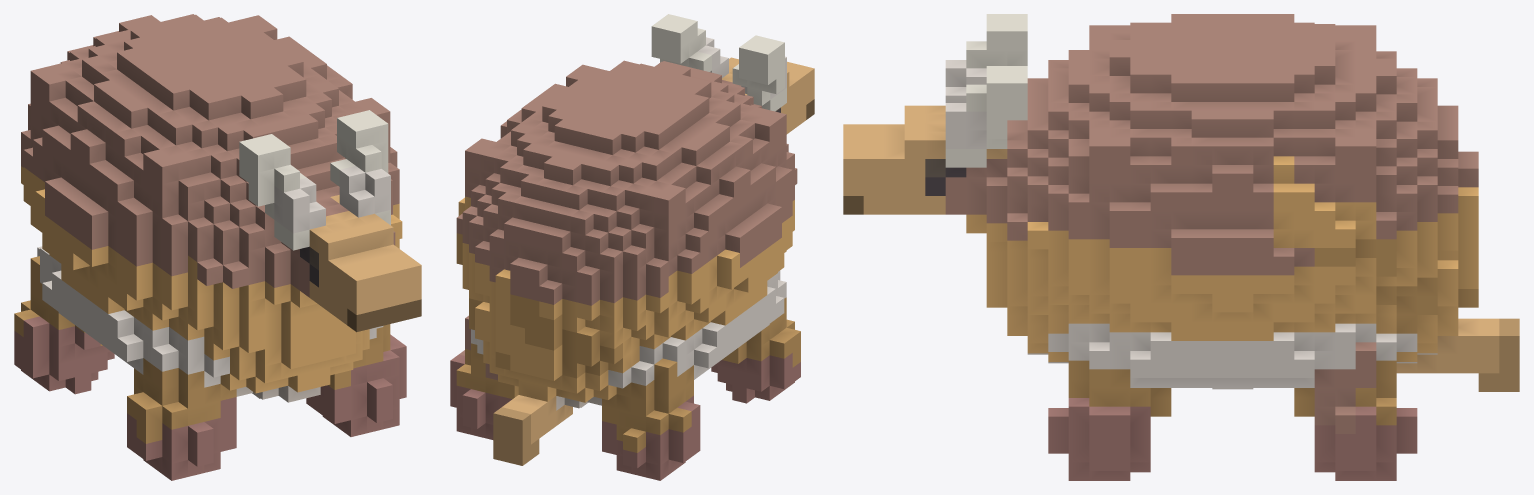
The model's file is tortoise-42-champion.glb.
3 views of the same model, side by side, from view 1: azimuth 30°, elevation 25°; view 2: azimuth 150°, elevation 25°; view 3: azimuth 270°, elevation 25° (orthographic). The views are drawn at different scales.
Visible parts, largest first — view 1: shell, body, head, legFL, plastron, legBL, legFR, crownStoneLeft, crownStoneRight, skullBudRight, skullBudLeft, neck (+1 smaller); view 2: shell, body, legBL, plastron, legFL, legBR, crownStoneLeft, crownStoneRight, tailTip, head, tail, skullBudRight; view 3: shell, plastron, body, legBR, legFR, head, crownStoneRight, tail, crownStoneLeft, neck, tailTip, skullBudRight (+2 smaller).
Part boxes in pixels (box(x1,y1,x2,y2)): shell: box(21, 14, 402, 340); body: box(169, 298, 369, 402); head: box(309, 195, 421, 332); legFL: box(127, 358, 236, 480); plastron: box(37, 246, 383, 387); legBL: box(14, 256, 114, 394); legFR: box(306, 324, 406, 436); crownStoneLeft: box(239, 134, 309, 250); crownStoneRight: box(330, 110, 390, 225); skullBudRight: box(339, 166, 390, 217); skullBudLeft: box(274, 178, 325, 233); neck: box(290, 197, 348, 307); shell: box(456, 60, 797, 340); body: box(469, 281, 670, 410); legBL: box(602, 358, 700, 480); plastron: box(471, 270, 786, 388); legFL: box(711, 297, 800, 403); legBR: box(450, 315, 518, 439); crownStoneLeft: box(732, 35, 786, 111); crownStoneRight: box(651, 14, 711, 71); tailTip: box(493, 407, 539, 465); head: box(722, 57, 814, 134); tail: box(502, 395, 572, 444); skullBudRight: box(698, 37, 728, 77); shell: box(986, 14, 1478, 340); plastron: box(1048, 323, 1417, 389); body: box(986, 233, 1478, 363); legBR: box(1294, 342, 1417, 480); legFR: box(1048, 360, 1171, 480); head: box(843, 105, 1007, 214); crownStoneRight: box(945, 66, 1027, 167); tail: box(1396, 318, 1499, 373); crownStoneLeft: box(966, 14, 1027, 68); neck: box(945, 167, 986, 233); tailTip: box(1478, 318, 1519, 391); skullBudRight: box(945, 103, 986, 148).
Bounding box in the file's own units: 0.81 × 0.9 × 1.49.
